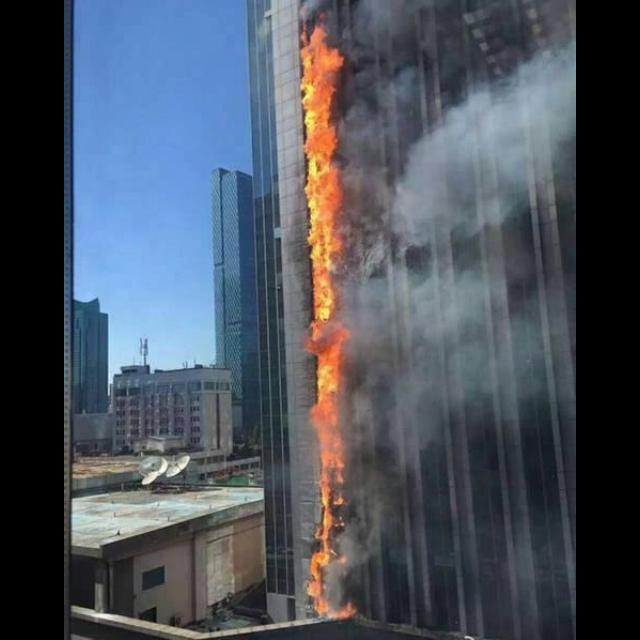Fire: (298, 24, 360, 618)
Smoke: (349, 0, 576, 607)
